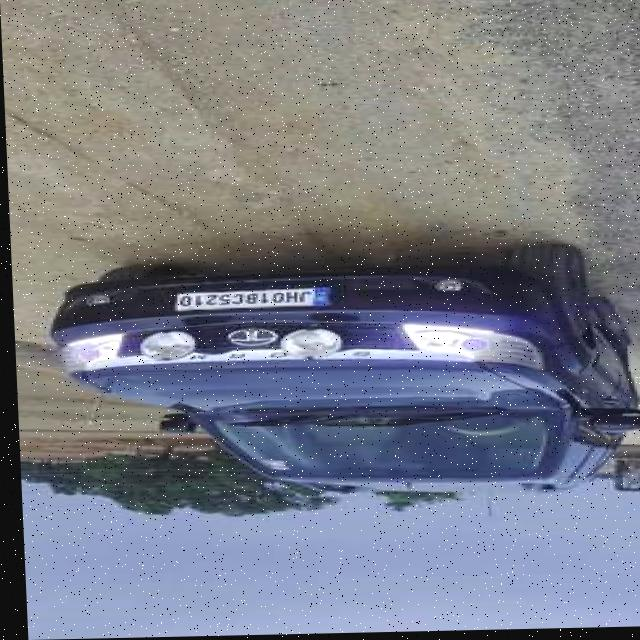plate: (170, 291, 327, 312)
